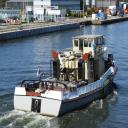tugboat: (16, 34, 120, 120)
